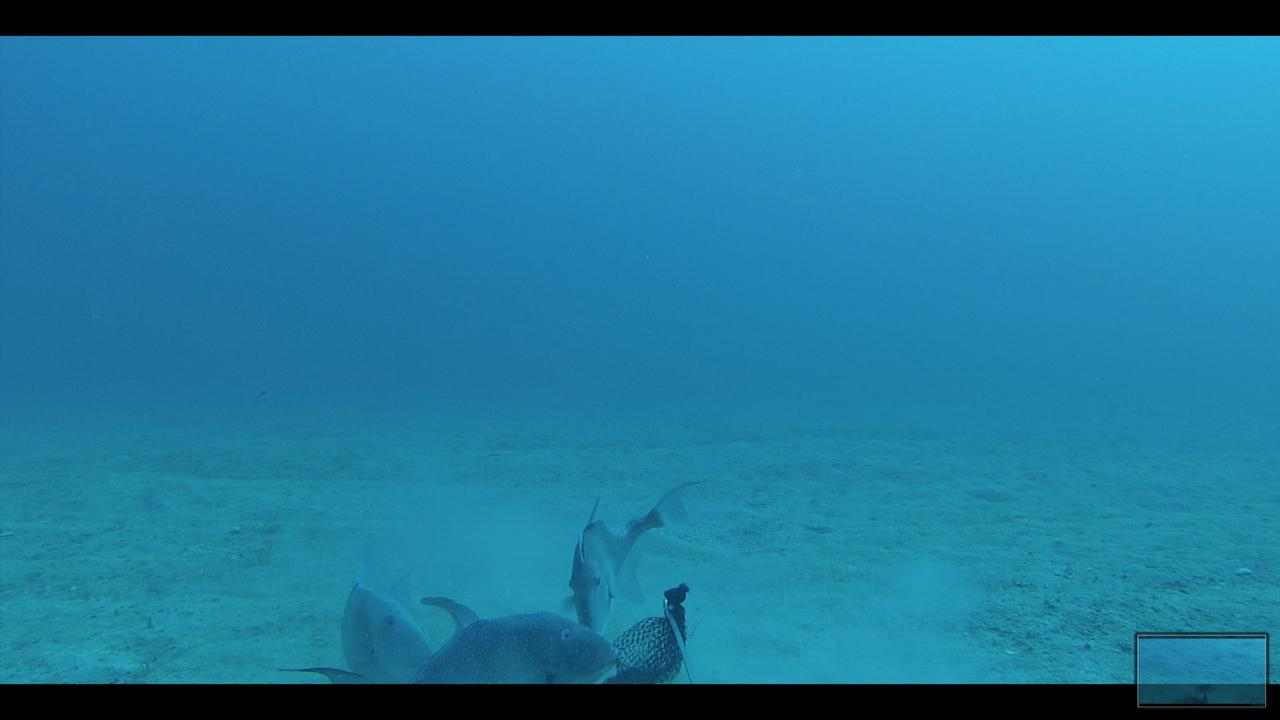balistes: (266, 592, 617, 682), (562, 476, 704, 634), (335, 551, 437, 680)
